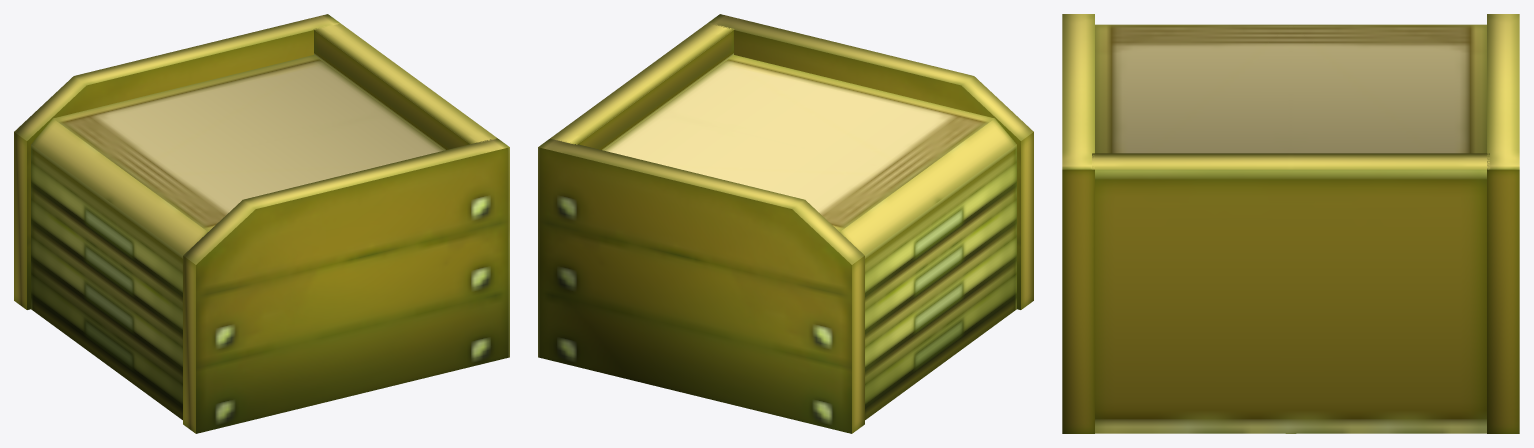
The model's file is a_SWIgen03.glb.
3 views of the same model, side by side, from view 1: azimuth 30°, elevation 25°; view 2: azimuth 150°, elevation 25°; view 3: azimuth 270°, elevation 25° (orthographic). The views are drawn at different scales.
Parts seen in each view (by area): view 1: a_SWIgen03; view 2: a_SWIgen03; view 3: a_SWIgen03.
Boxes of the visible parts, left/top/right/bottom form: a_SWIgen03: left=14, top=14, right=509, bottom=433; a_SWIgen03: left=538, top=14, right=1033, bottom=433; a_SWIgen03: left=1062, top=14, right=1519, bottom=433.
Bounding box in the file's own units: 0.5352 × 0.3423 × 0.5371.
Materials: 1 (1 with a texture image).
